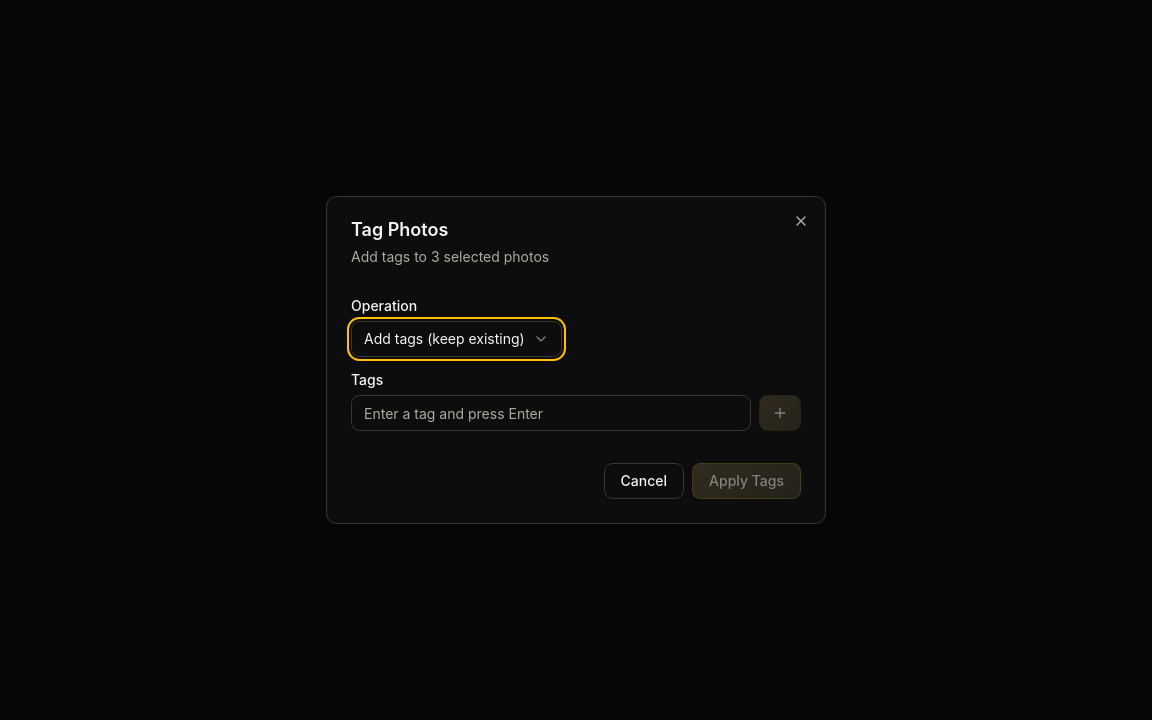
Test: BatchTagDialog Component › Tag Input and Management › adds tag when Enter key is pressed
This screenshot has width=1152, height=720.
In the field with placeholder "Enter a tag and press Enter": [551, 413] box [351,395,751,431], type "vacation"
Then press Enter
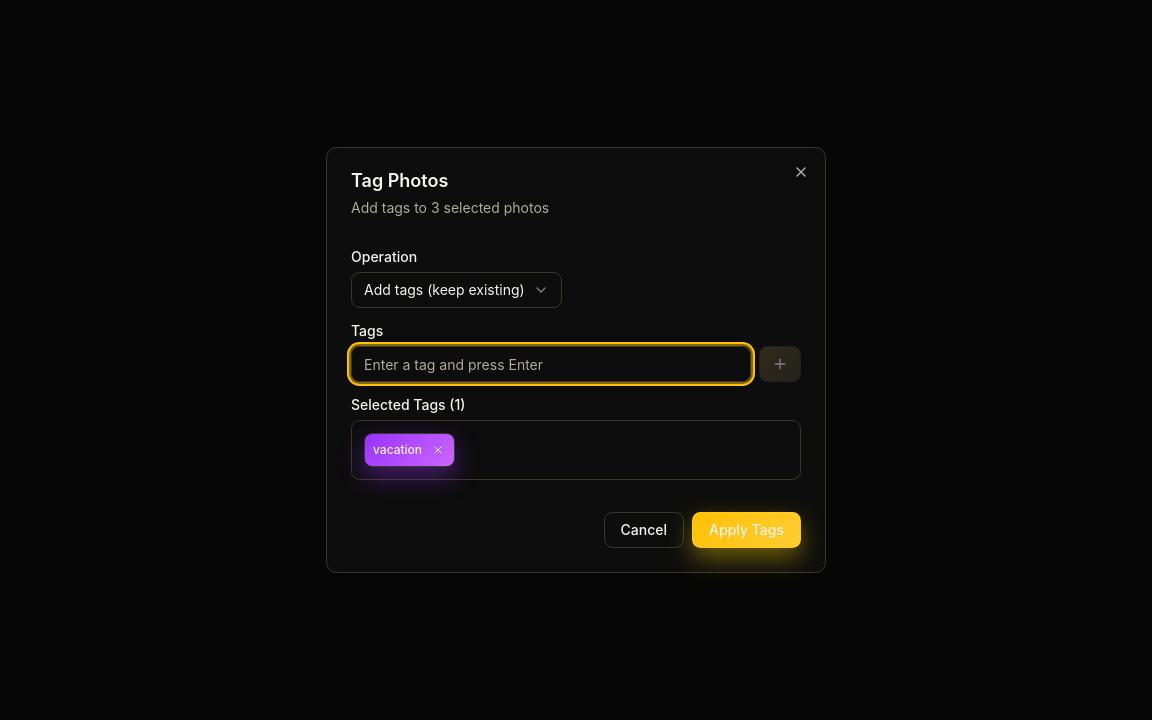
Check: the field with placeholder "Enter a tag and press Enter" is empty, box [351,346,751,382]
Check: the text "vacation" is shown, box [364,433,455,467]
